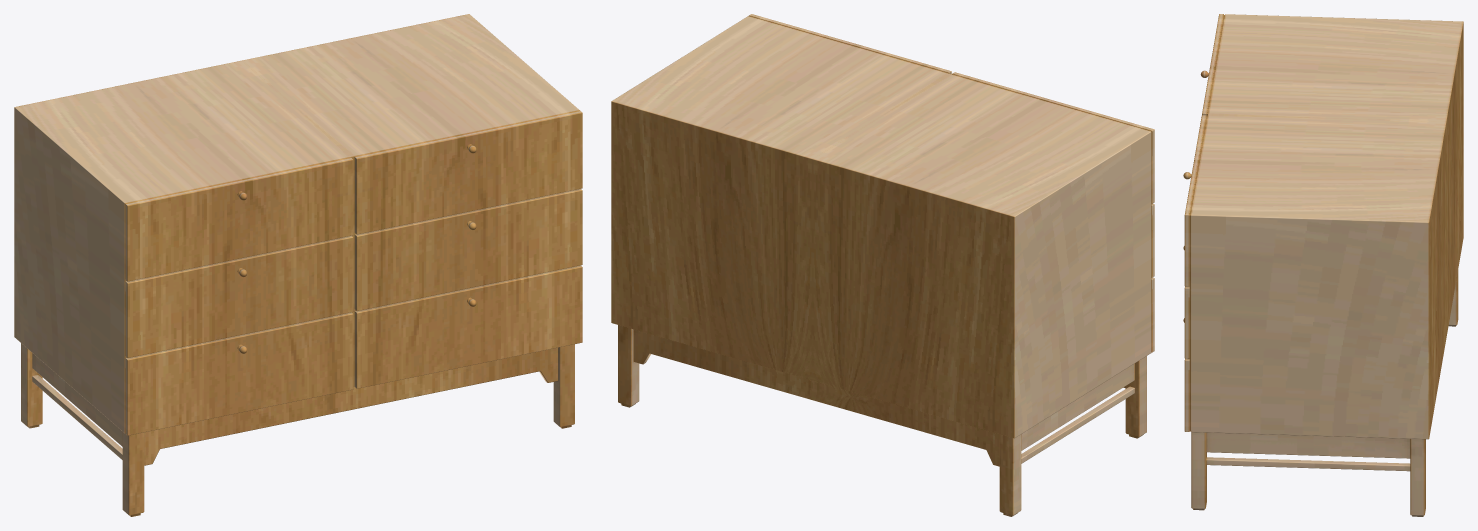
Rendered from comoda.fbx.
3 renders of one model, left to right at view 1: azimuth 30°, elevation 25°; view 2: azimuth 150°, elevation 25°; view 3: azimuth 270°, elevation 25°, orthographic. The views are drawn at different scales.
Parts seen in each view (by area): view 1: root; view 2: root; view 3: root.
Part boxes in pixels (bbox=[...]): root: bbox=[14, 14, 582, 516]; root: bbox=[611, 14, 1154, 516]; root: bbox=[1183, 14, 1463, 516].
Size of the model in its own units: 1.06 by 0.7054 by 0.6009.
Materials: 1 (1 with a texture image).
